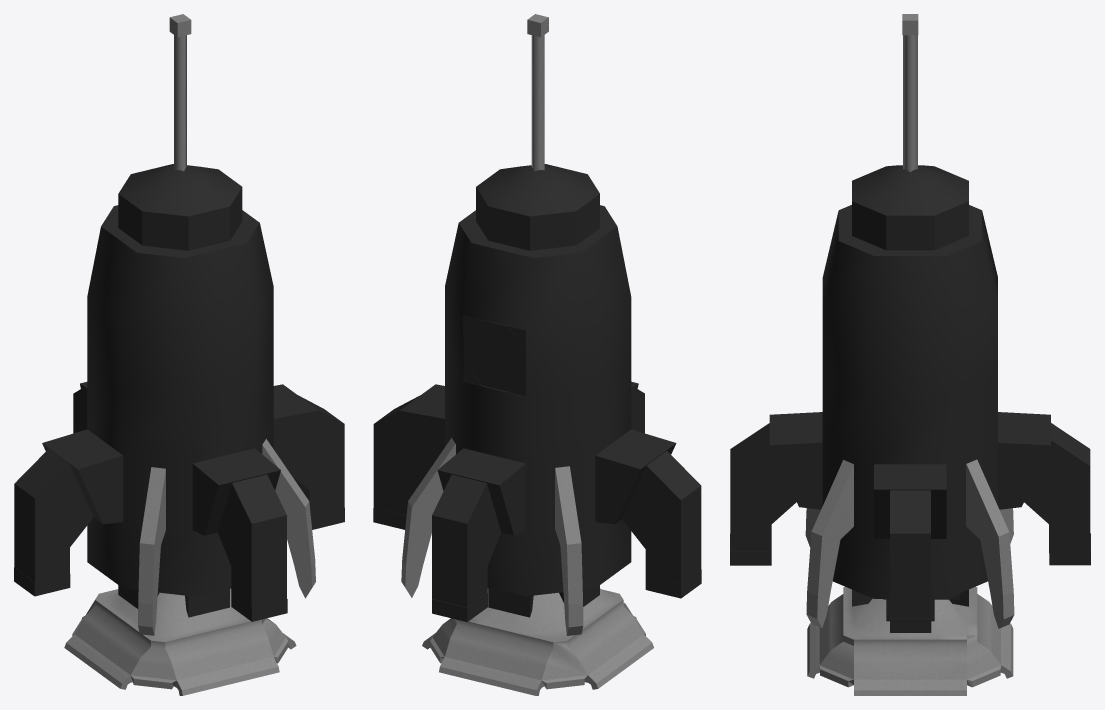
File: rocket_t4.obj
3 views of the same model, side by side, from view 1: azimuth 30°, elevation 25°; view 2: azimuth 150°, elevation 25°; view 3: azimuth 270°, elevation 25° (orthographic).
Parts seen in each view (by area): view 1: Body_Rocket, Nozzle, Rocket_stabilizer2, Rocket_stabilizer4, Rocket_stabilizer1, CorrectedWind4, CorrectedWind1, Tip, Plug1, Plug2, Rocket_stabilizer3; view 2: Body_Rocket, Nozzle, Rocket_stabilizer2, Rocket_stabilizer3, Rocket_stabilizer1, GlassWindow, CorrectedWind3, CorrectedWind2, Tip, Plug1, Plug4; view 3: Body_Rocket, Nozzle, Rocket_stabilizer3, Rocket_stabilizer4, Rocket_stabilizer1, CorrectedWind2, CorrectedWind1, Tip, Plug2, Plug3, Plug4.
Boxes of the visible parts, bbox=[...] form: Body_Rocket: bbox=[42, 164, 318, 617]; Nozzle: bbox=[64, 588, 296, 695]; Rocket_stabilizer2: bbox=[14, 449, 93, 581]; Rocket_stabilizer4: bbox=[218, 474, 286, 609]; Rocket_stabilizer1: bbox=[293, 395, 344, 518]; CorrectedWind4: bbox=[138, 467, 165, 635]; CorrectedWind1: bbox=[262, 439, 315, 598]; Tip: bbox=[174, 35, 186, 171]; Plug1: bbox=[14, 567, 70, 596]; Plug2: bbox=[231, 595, 287, 621]; Rocket_stabilizer3: bbox=[73, 389, 87, 433]; Body_Rocket: bbox=[399, 164, 676, 617]; Nozzle: bbox=[422, 588, 653, 695]; Rocket_stabilizer2: bbox=[622, 451, 701, 583]; Rocket_stabilizer3: bbox=[432, 474, 500, 607]; Rocket_stabilizer1: bbox=[373, 395, 424, 515]; GlassWindow: bbox=[463, 320, 525, 391]; CorrectedWind3: bbox=[555, 466, 583, 635]; CorrectedWind2: bbox=[401, 438, 455, 597]; Tip: bbox=[531, 35, 544, 171]; Plug1: bbox=[645, 569, 701, 598]; Plug4: bbox=[432, 593, 487, 622]; Body_Rocket: bbox=[769, 165, 1050, 621]; Nozzle: bbox=[807, 586, 1013, 695]; Rocket_stabilizer3: bbox=[1024, 423, 1090, 553]; Rocket_stabilizer4: bbox=[730, 423, 796, 550]; Rocket_stabilizer1: bbox=[890, 490, 930, 618]; CorrectedWind2: bbox=[966, 459, 1014, 628]; CorrectedWind1: bbox=[806, 460, 853, 627]; Tip: bbox=[903, 35, 917, 172]; Plug2: bbox=[730, 534, 771, 565]; Plug3: bbox=[890, 601, 931, 632]; Plug4: bbox=[1049, 533, 1090, 565].
Bounding box in the file's own units: 4.45 × 8.67 × 4.45.
